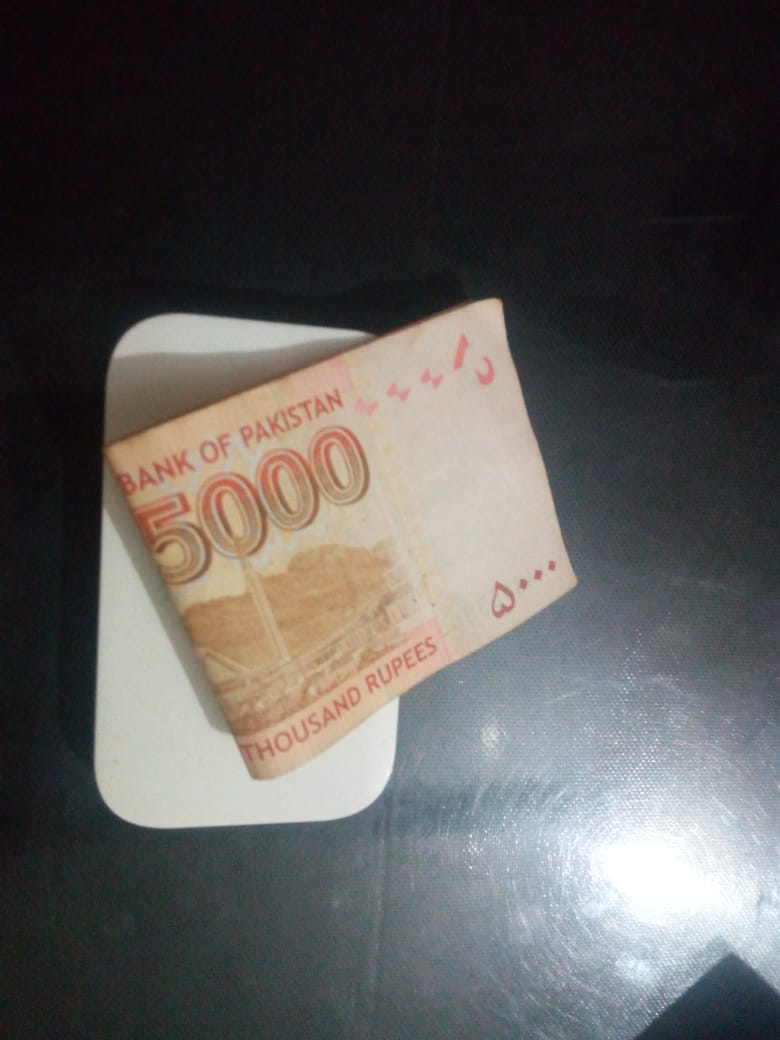5000 rupee: (111, 257, 585, 810)
